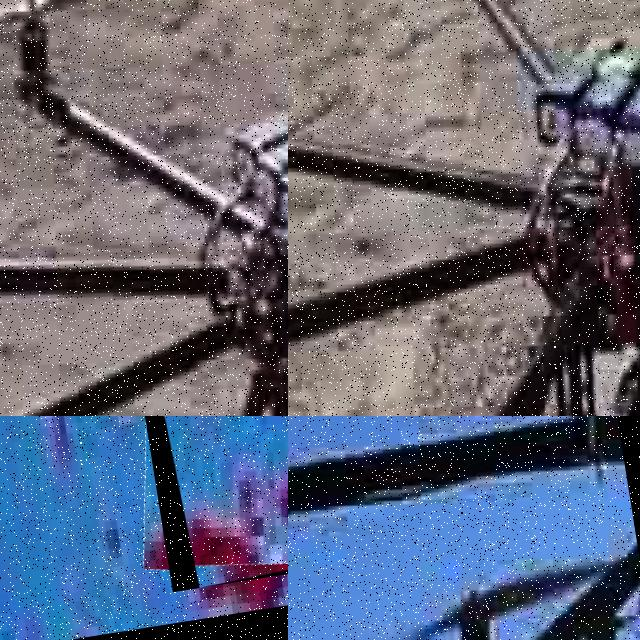drone: (288, 0, 640, 416), (0, 0, 288, 416), (288, 416, 640, 640), (77, 416, 288, 592)
